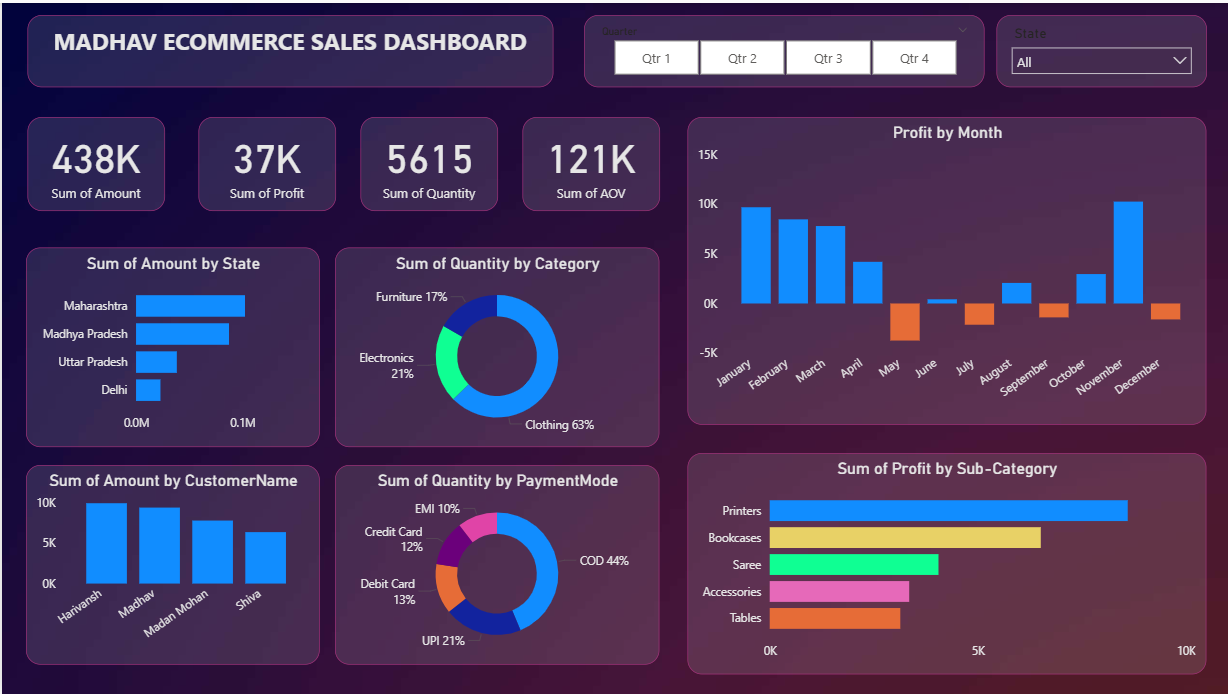

The page's visual inventory and layout, read from the dashboard file:
{"tool":"powerbi","page":{"name":"Page 1","canvas":[1280,720],"ordinal":0},"visuals":[{"type":"textbox","box":[26.5,13.2,548,75.6],"z":0},{"type":"columnChart","title":"Profit by Month","fields":{"Y":["Details.Profit"],"Category":["Orders.Order Date.Variation.Date Hierarchy.Month"]},"box":[714.3,118.8,540.8,320.4],"z":1},{"type":"barChart","fields":{"Category":["Details.Sub-Category"],"Y":["Details.Profit"]},"box":[714.3,468.7,540.5,230.6],"z":2},{"type":"donutChart","fields":{"Category":["Details.Category"],"Y":["Details.Quantity"]},"box":[347.7,255.1,338.3,207.9],"z":3},{"type":"donutChart","fields":{"Category":["Details.PaymentMode","Details.Category"],"Y":["Details.Quantity"]},"box":[347.7,481.9,338.3,207.9],"z":4},{"type":"card","fields":{"Values":["Details.Amount"]},"box":[26.5,119.1,143.6,98.3],"z":5},{"type":"card","fields":{"Values":["Details.Profit"]},"box":[204.1,119.1,143.6,98.3],"z":6},{"type":"card","fields":{"Values":["Details.Quantity"]},"box":[374.2,119.1,143.6,98.3],"z":7},{"type":"card","fields":{"Values":["Details.AOV"]},"box":[542.4,119.1,143.6,98.3],"z":8},{"type":"barChart","fields":{"Category":["Orders.State"],"Y":["Details.Amount"]},"box":[24.6,255.1,306.1,207.9],"z":9},{"type":"columnChart","fields":{"Category":["Orders.CustomerName"],"Y":["Details.Amount"]},"box":[24.6,481.9,306.1,207.9],"z":10},{"type":"slicer","fields":{"Values":["Orders.Order Date.Variation.Date Hierarchy.Quarter"]},"box":[606.6,13.2,417.6,75.6],"z":11},{"type":"slicer","fields":{"Values":["Orders.State"]},"box":[1035.6,13.2,219.2,75.6],"z":12}]}

Visuals, with their boxes in screenshot pixels (x1, y1, x2, y2), scaled from the page's 1280x720 canvas onto the 1228x694 screenshot:
textbox: box(25, 13, 551, 86)
"Profit by Month" columnChart: box(685, 115, 1204, 423)
barChart - Details.Sub-Category x Details.Profit: box(685, 452, 1204, 674)
donutChart - Details.Category x Details.Quantity: box(334, 246, 658, 446)
donutChart - Details.PaymentMode x Details.Category: box(334, 464, 658, 665)
card - Details.Amount: box(25, 115, 163, 210)
card - Details.Profit: box(196, 115, 334, 210)
card - Details.Quantity: box(359, 115, 497, 210)
card - Details.AOV: box(520, 115, 658, 210)
barChart - Orders.State x Details.Amount: box(24, 246, 317, 446)
columnChart - Orders.CustomerName x Details.Amount: box(24, 464, 317, 665)
slicer - Orders.Order Date.Variation.Date Hierarchy.Quarter: box(582, 13, 983, 86)
slicer - Orders.State: box(994, 13, 1204, 86)
